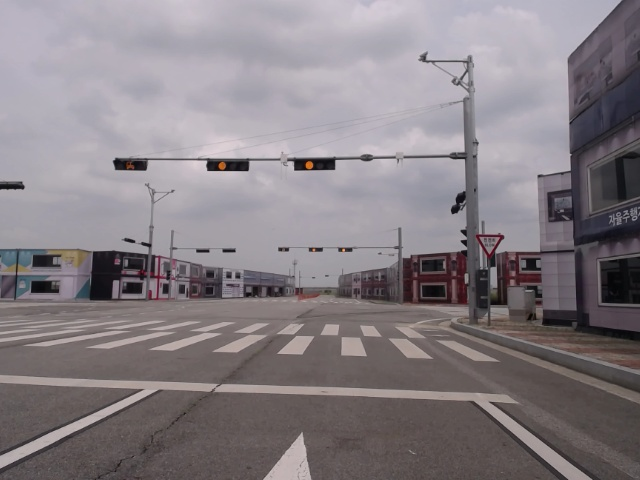orange_4: (294, 156, 337, 171), (205, 159, 251, 173), (336, 247, 354, 254), (308, 247, 324, 253)
